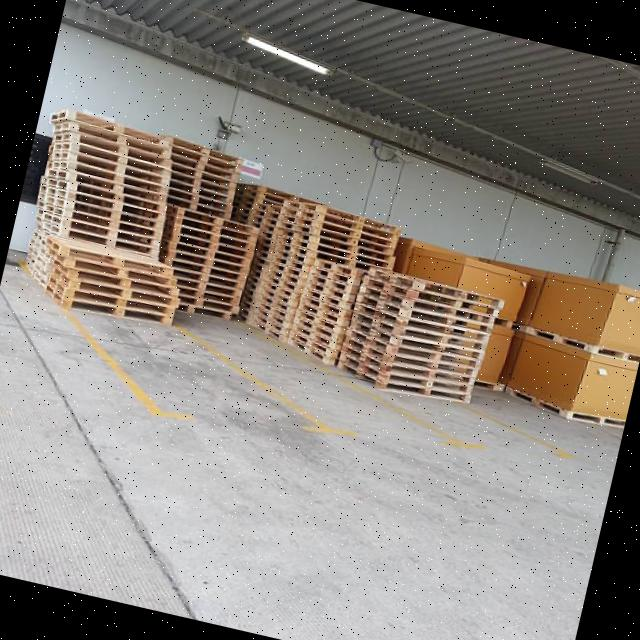Wooden-Pallets: (342, 290, 506, 350), (28, 278, 182, 338), (25, 232, 188, 288), (338, 343, 485, 398), (364, 260, 514, 308), (51, 103, 176, 154), (154, 199, 269, 254)
